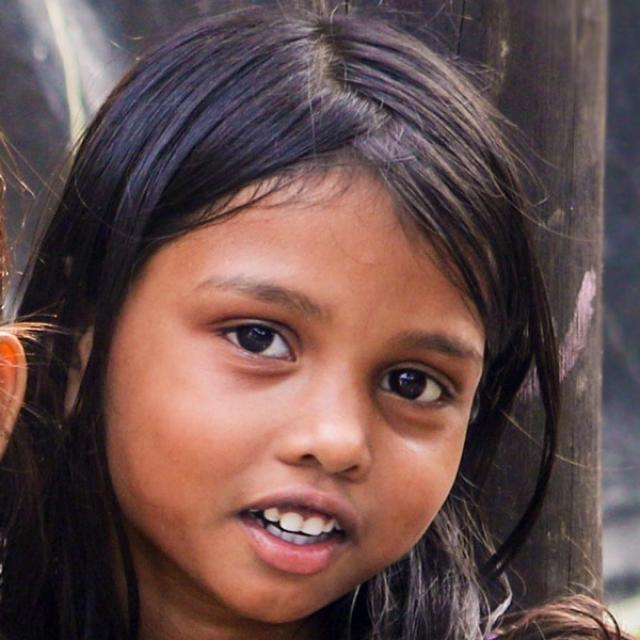face: (70, 5, 496, 626)
